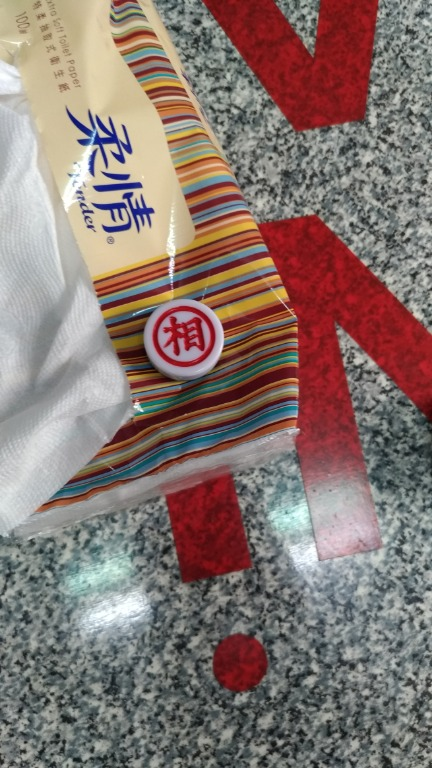r-elephant: (134, 293, 244, 387)
